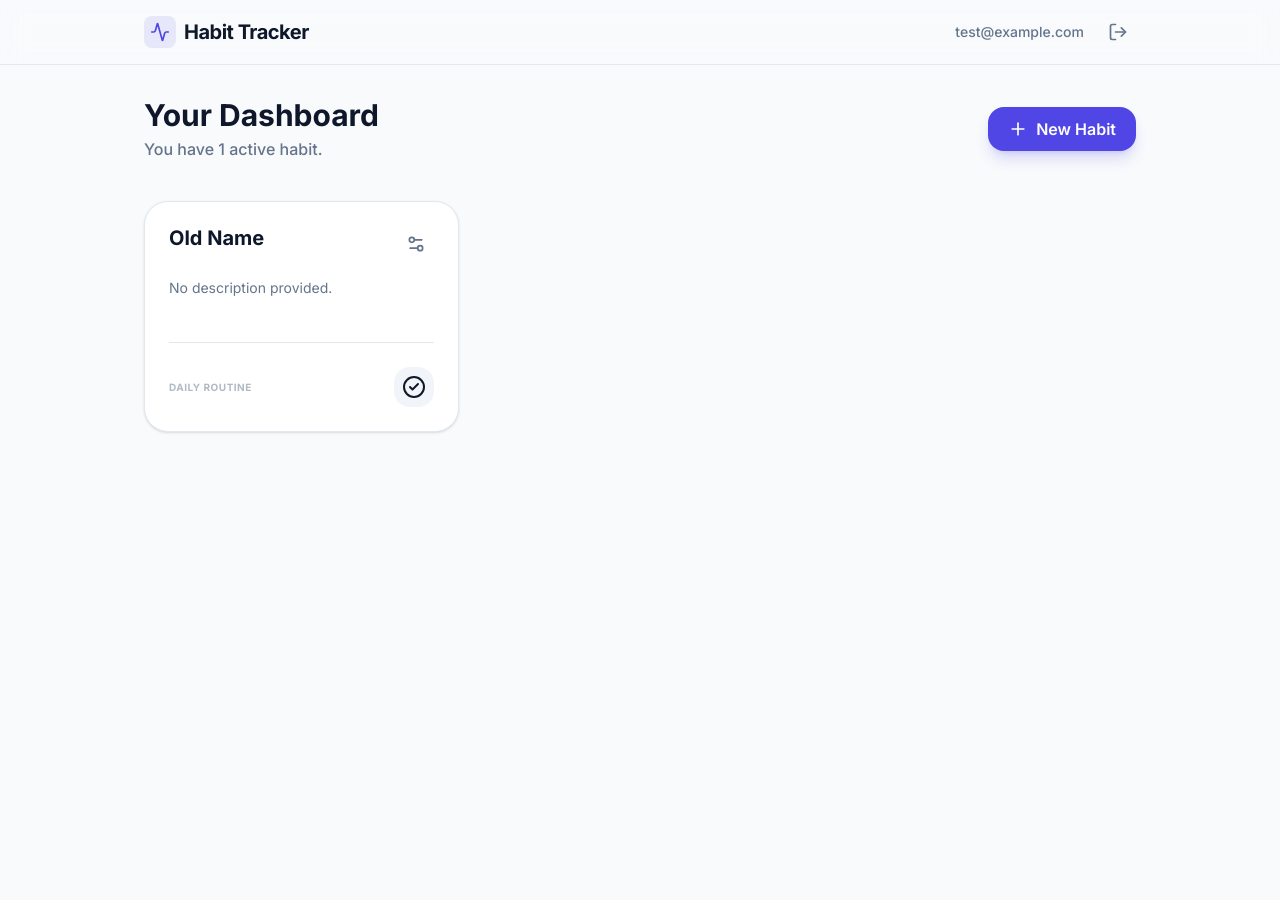
Test: habit form › edits an existing habit and preserves immutable fields
This screenshot has width=1280, height=900.
Click the button with test id "habit-edit-old-name" at (416, 244), box [398,226,434,262]
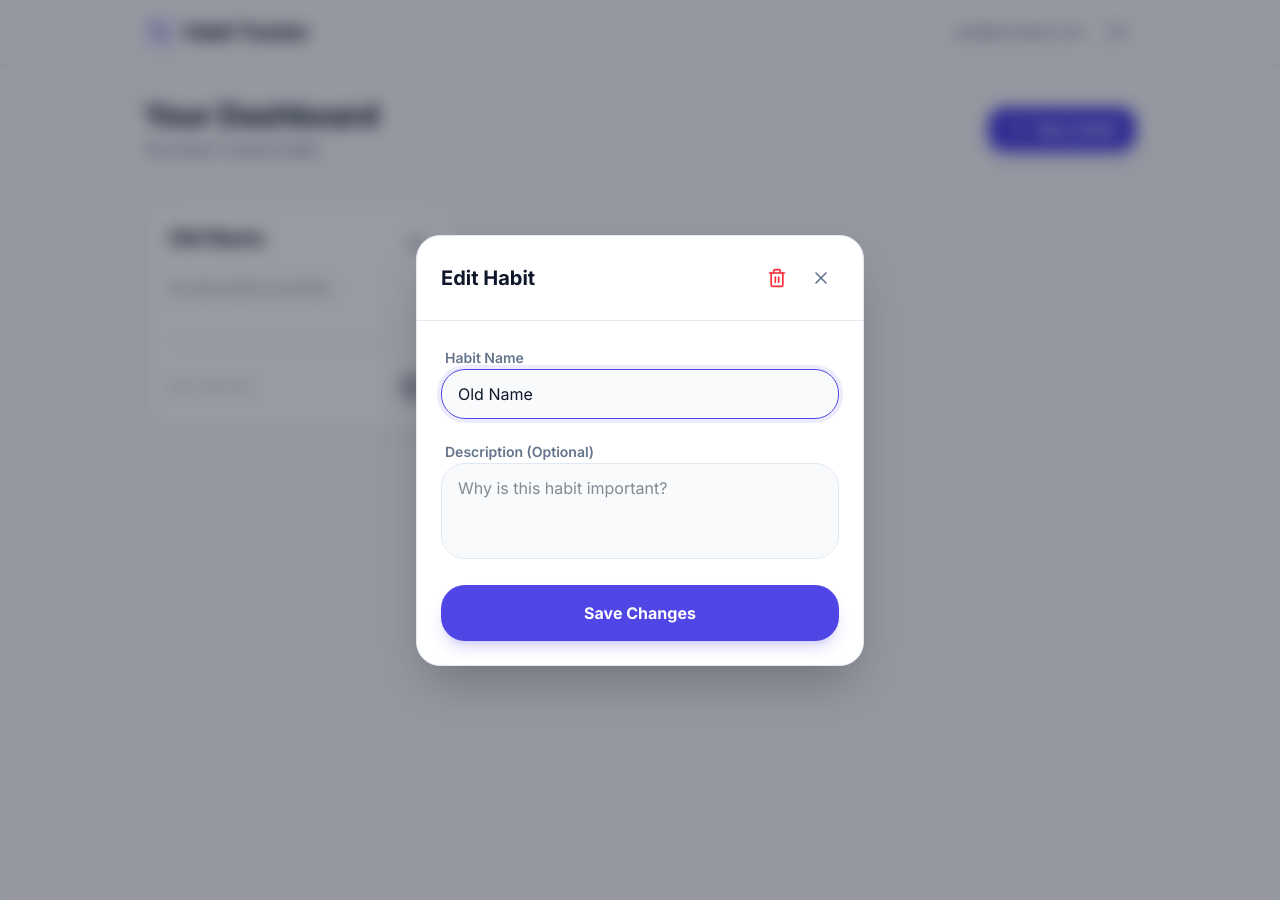
Replace the text in the field showing "Old Name" with "New Name" at (640, 394), box [441,368,839,418]
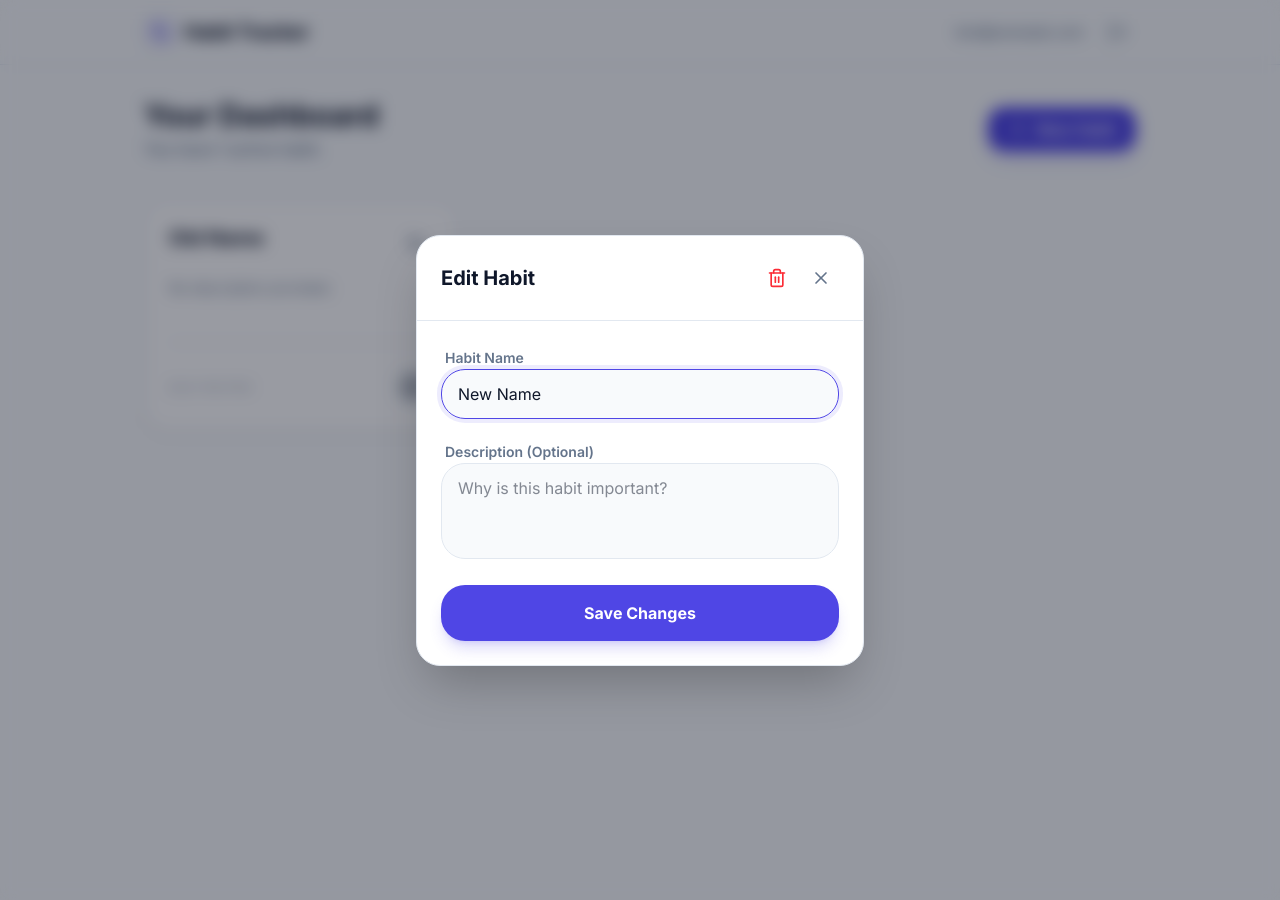
Click the button "Save Changes" at (640, 612), box [441,584,839,640]
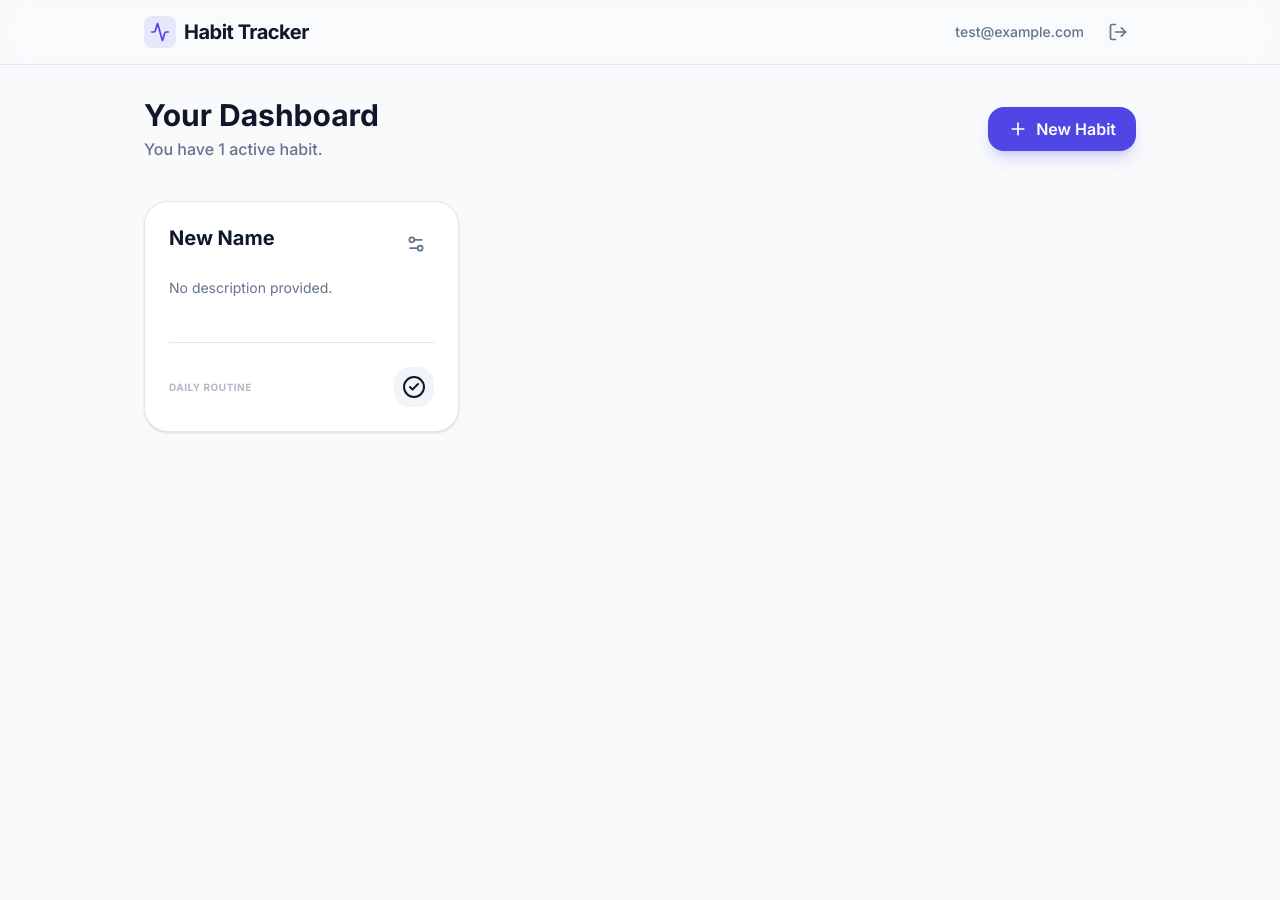
Check: the element with test id "habit-card-new-name" is shown, box [144,201,459,432]
